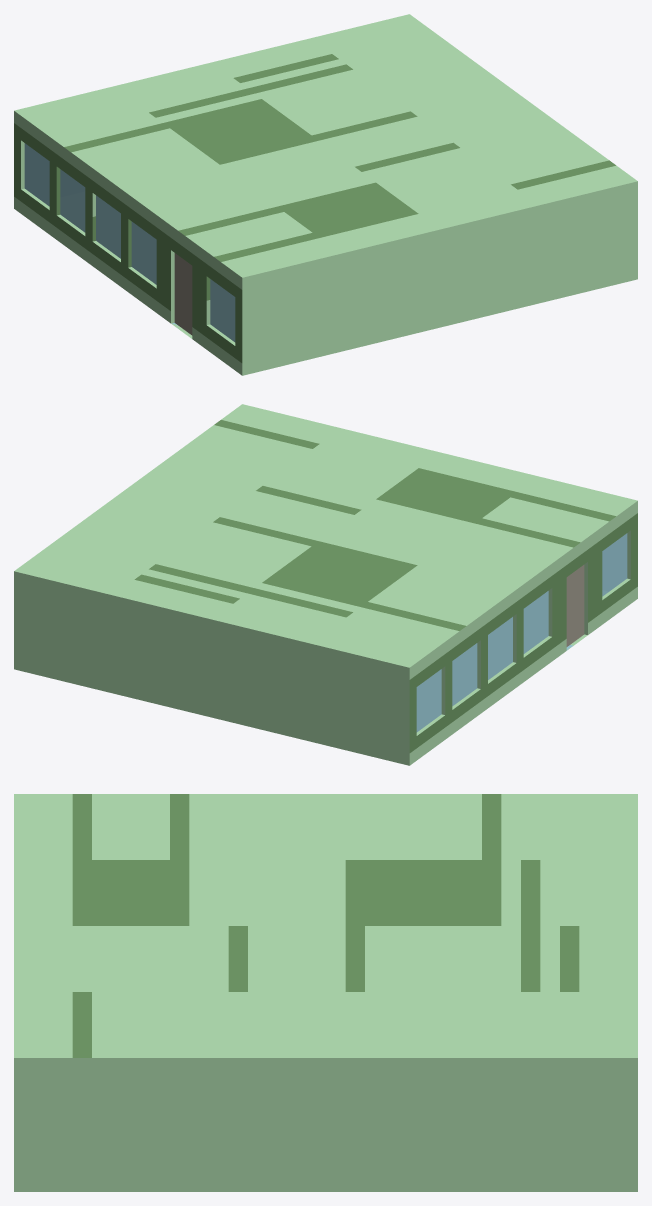
File: casa_1piso1.glb
3 views of the same model, one above another, from view 1: azimuth 30°, elevation 25°; view 2: azimuth 150°, elevation 25°; view 3: azimuth 270°, elevation 25° (orthographic). The views are drawn at different scales.
Visible parts, largest first — view 1: Cubo; view 2: Cubo; view 3: Cubo.
Part boxes in pixels (x1,y1,x2,y2): Cubo: [14, 14, 637, 375]; Cubo: [14, 404, 637, 765]; Cubo: [14, 794, 637, 1191].
Size of what is drawn, in the model's own units: 17.74 by 4.2 by 17.73.
